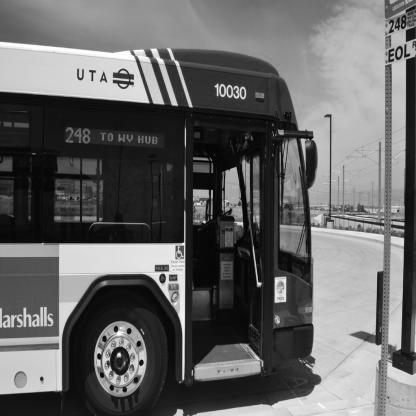bus: (1, 27, 324, 411)
